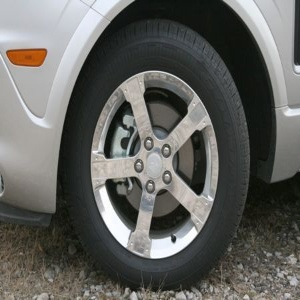train: (60, 23, 250, 280)
